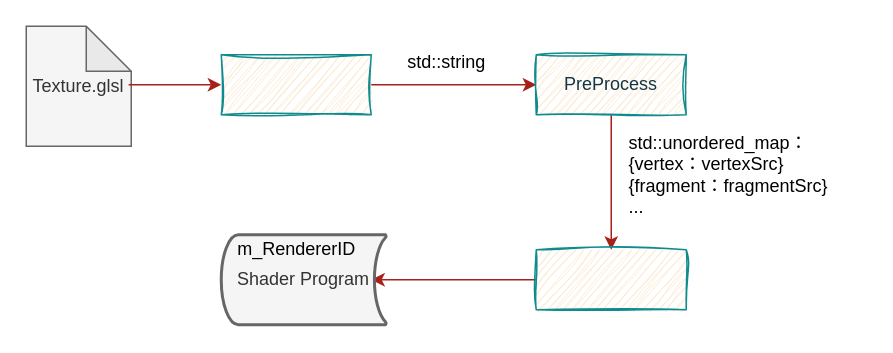
The diagram is 893 pixels wide and 353 high, and some of its shapes have lost their labels. The shapes that lost their labels are listed below. From the top down, each one's centre as x and y in pixels, then its label:
(295,84): ReadFile
(610,279): Compile
